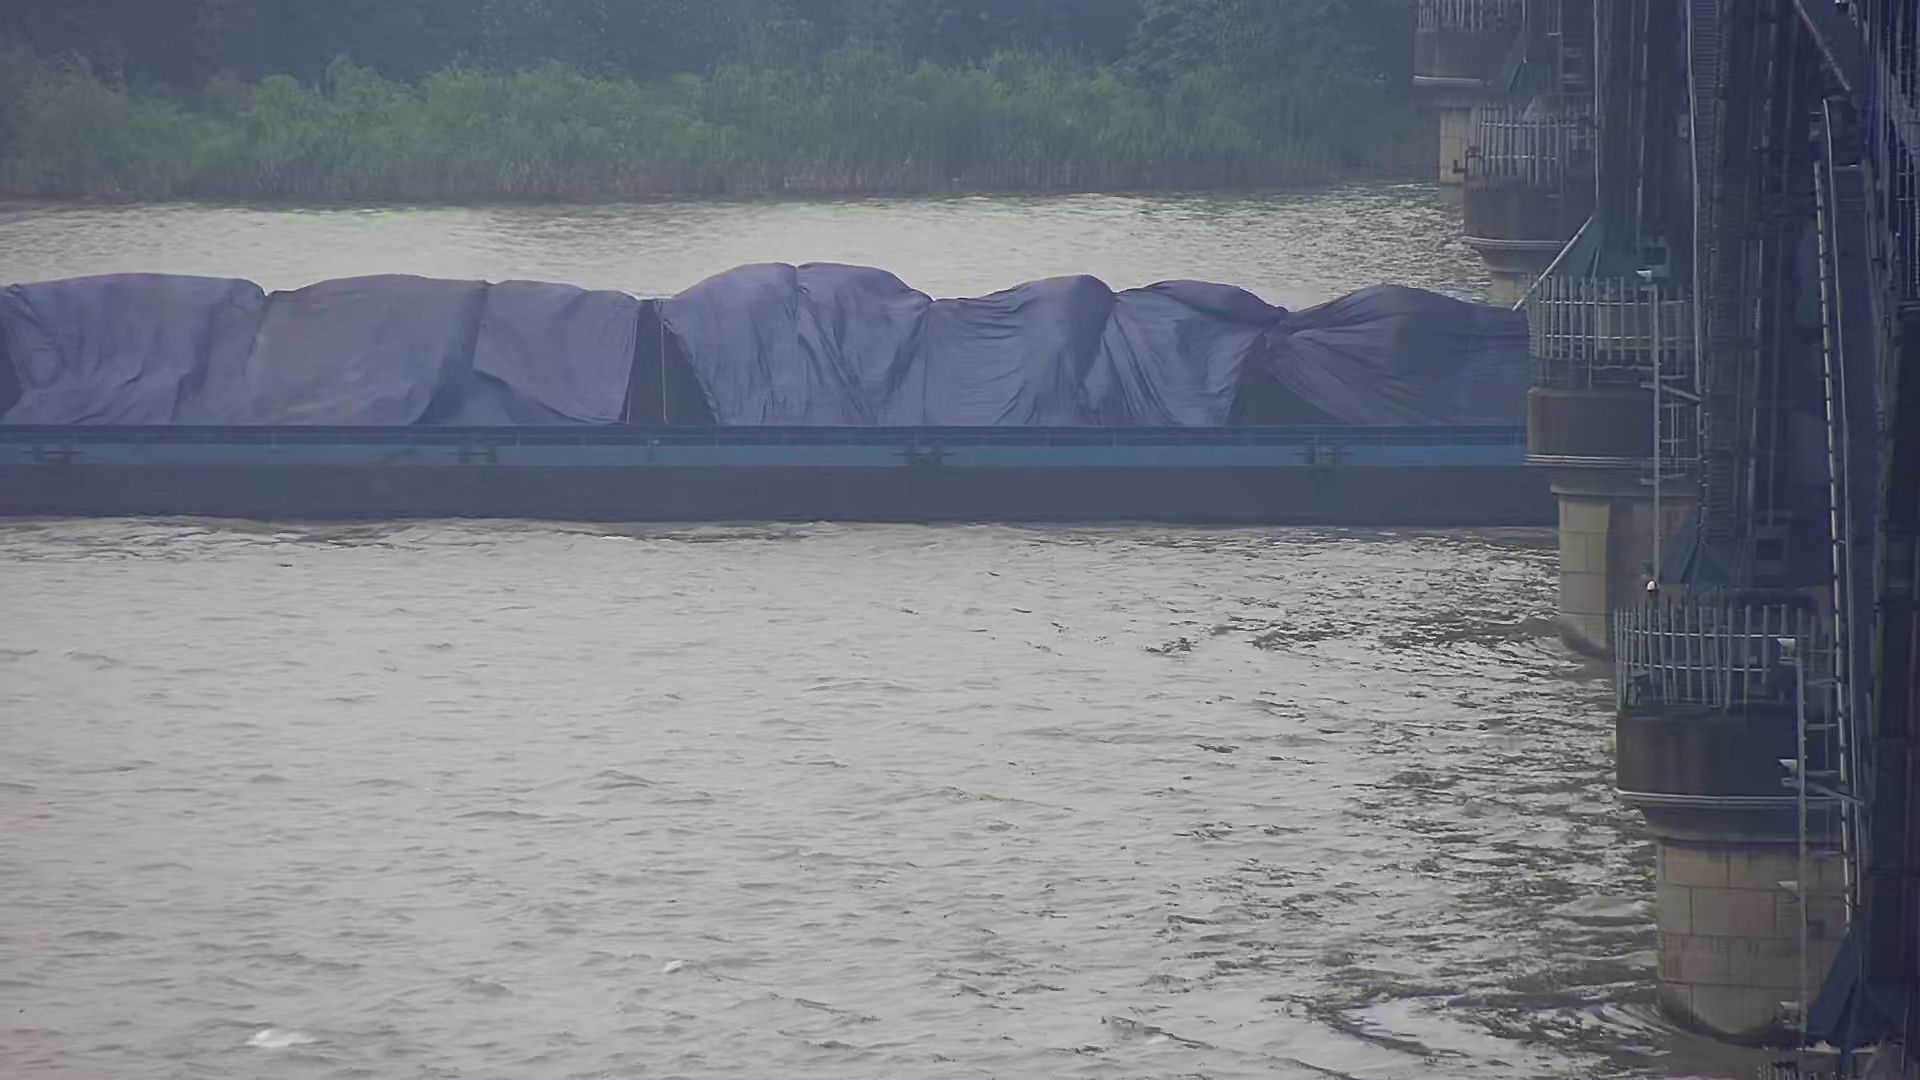bridge: (1385, 1, 1917, 1073)
ship: (1, 248, 1575, 545)
